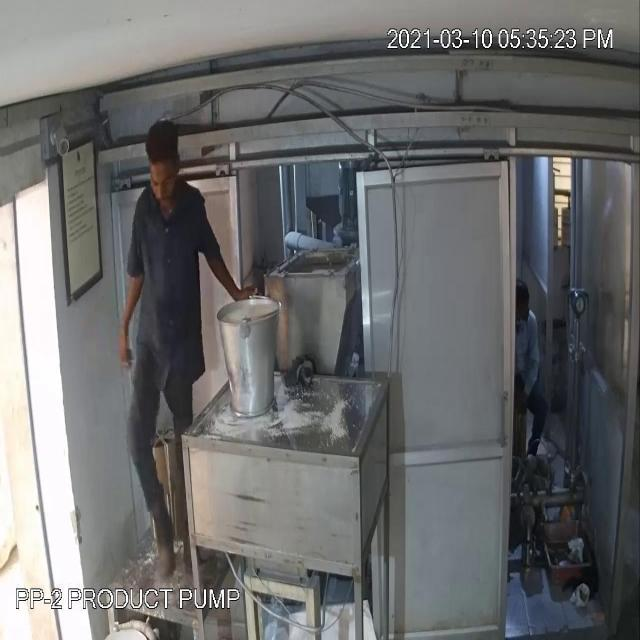No_Gloves: (44, 92, 232, 320)
